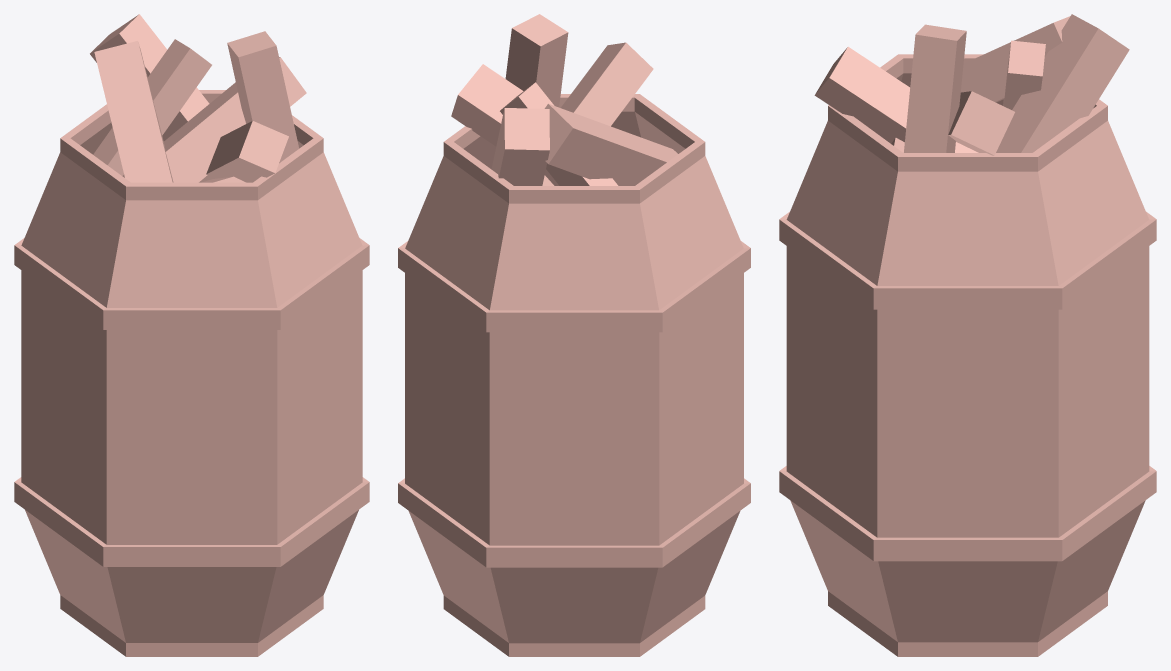
The model's file is Mega_Asset_s_Pack_Cylinder_040.FBX.
3 views of the same model, side by side, from view 1: azimuth 30°, elevation 25°; view 2: azimuth 150°, elevation 25°; view 3: azimuth 270°, elevation 25° (orthographic). The views are drawn at different scales.
Visible parts, largest first — view 1: Mega_Asset_s_Pack_Cylinder_040; view 2: Mega_Asset_s_Pack_Cylinder_040; view 3: Mega_Asset_s_Pack_Cylinder_040.
Boxes of the visible parts, box(x1,y1,x2,y2) form: Mega_Asset_s_Pack_Cylinder_040: box(14, 14, 369, 656); Mega_Asset_s_Pack_Cylinder_040: box(398, 14, 750, 656); Mega_Asset_s_Pack_Cylinder_040: box(779, 14, 1156, 656).
Size of what is drawn, in the model's own units: 108 by 124 by 219.
